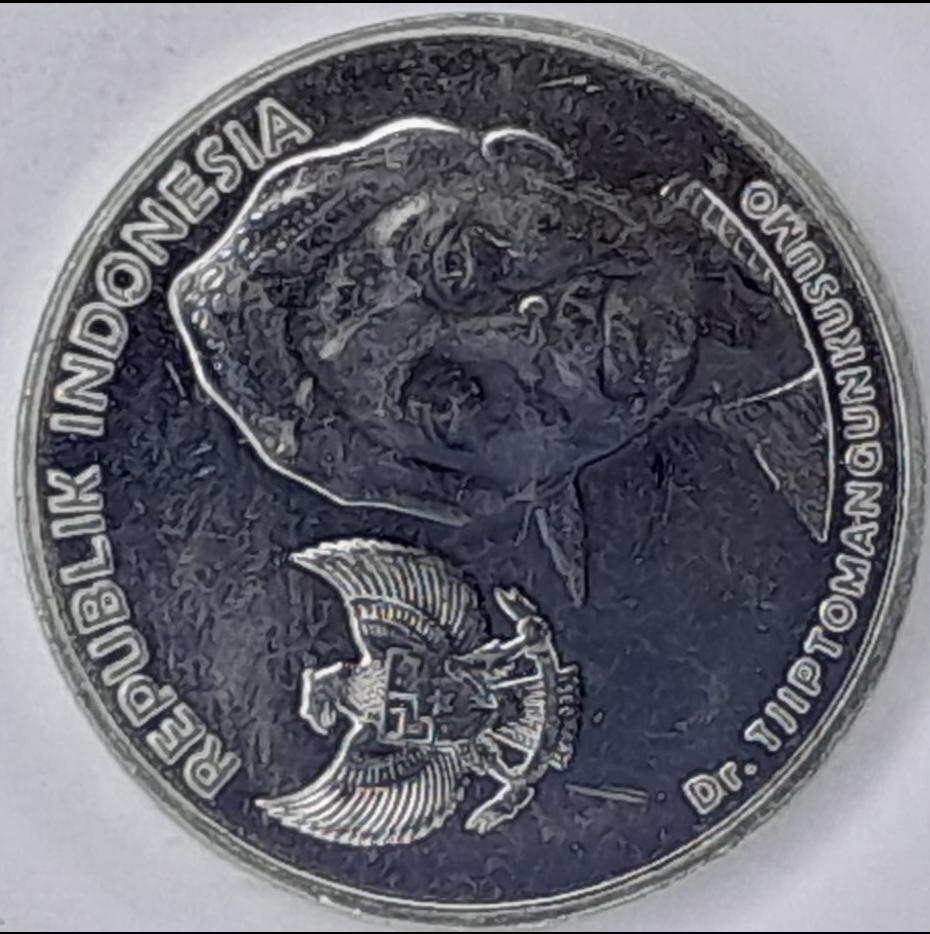coin_200_e2016: (0, 16, 930, 934)
